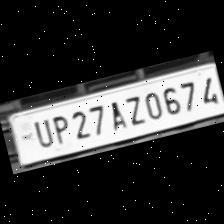0: (138, 86, 164, 122)
2: (64, 104, 92, 142)
4: (192, 71, 220, 108)
6: (156, 82, 182, 118)
7: (82, 100, 108, 137), (174, 76, 200, 113)
A: (102, 95, 128, 132)
P: (44, 109, 72, 146)
U: (26, 114, 53, 150)
Z: (119, 90, 146, 128)
